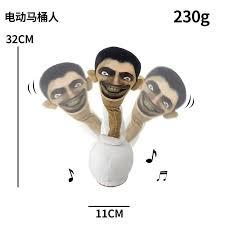skibidi-toilet: (137, 61, 186, 124), (39, 62, 93, 118), (95, 48, 138, 104)
